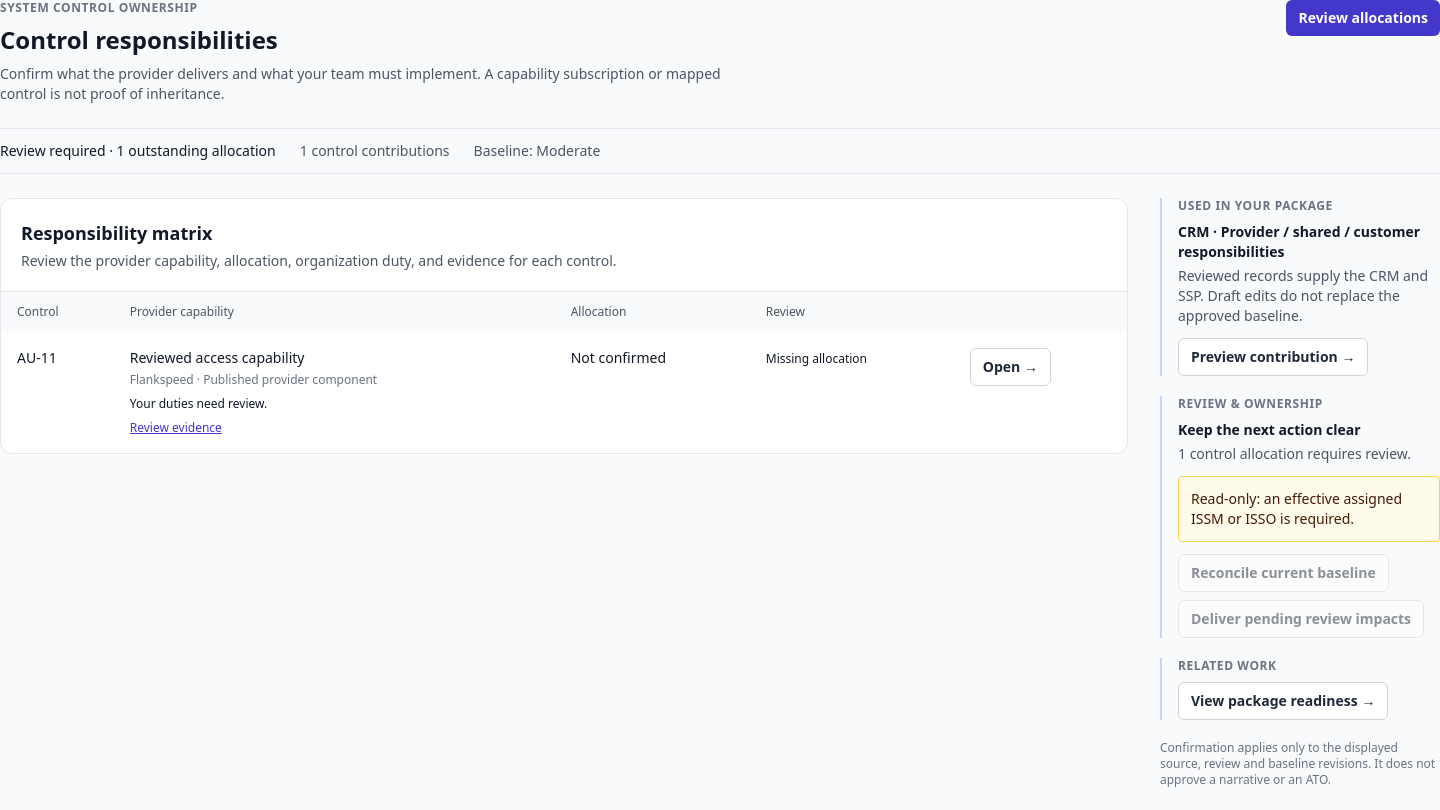
allows read-only source inspection without an enabled write action
This screenshot has width=1440, height=810.
Click the button with aria-label "Open AU-11 responsibility": (1010, 367) [970,348,1051,386]
(page scrolled)
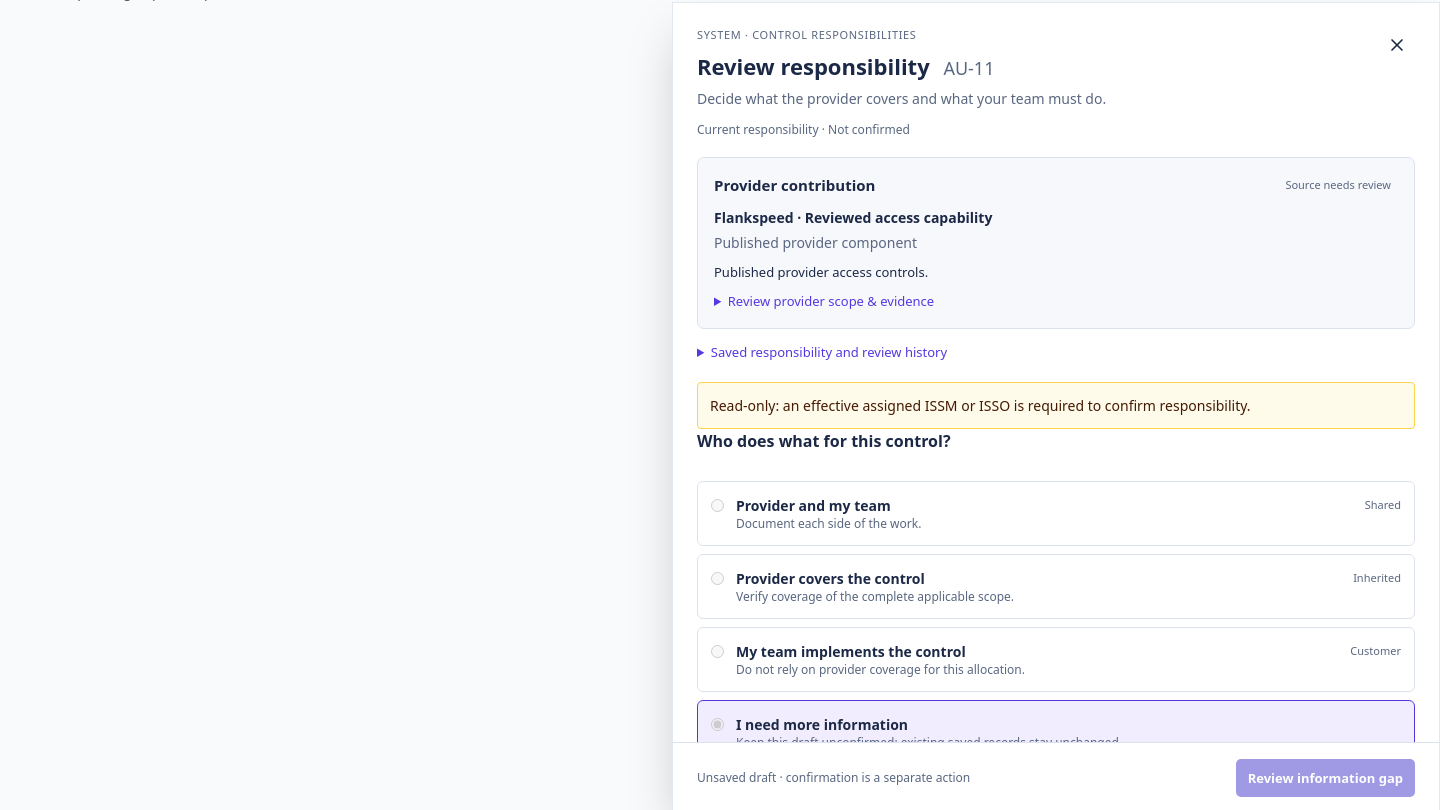
Expected: the radio button labelled "Provider and my team Document each side of the work. Shared" is disabled, [711,499,724,512]
Expected: the text "Read-only" is shown, [710,396,1251,415]
